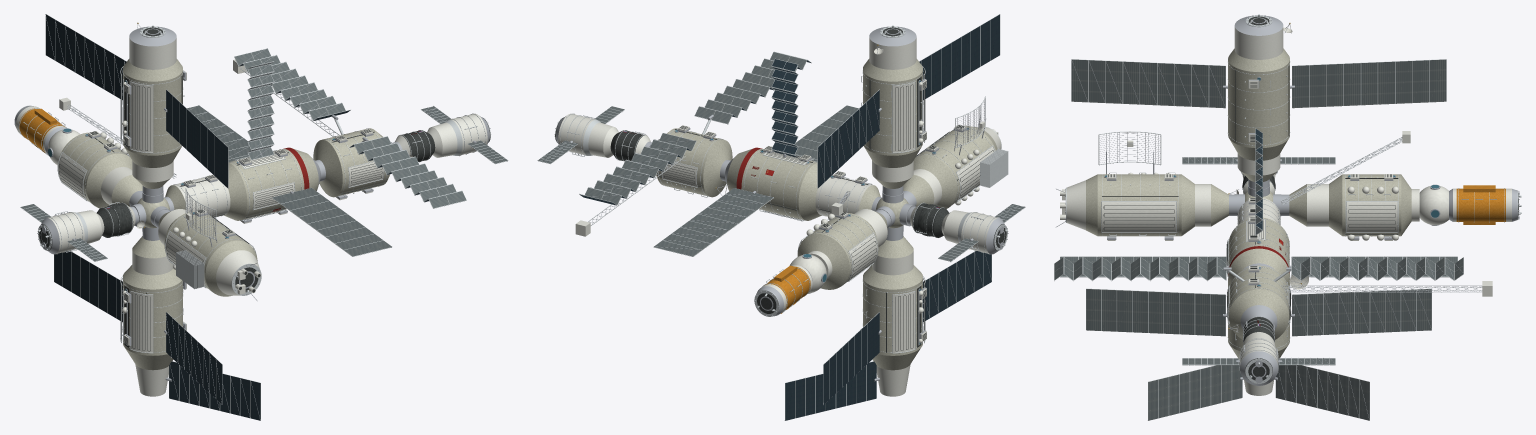
File: mir-reference.glb
3 renders of one model, left to right at view 1: azimuth 30°, elevation 25°; view 2: azimuth 150°, elevation 25°; view 3: azimuth 270°, elevation 25°, orthographic. The views are drawn at different scales.
Visible parts, largest first — view 1: Spektr / blanket, Core / blanket, Kvant-2 / shell, Kvant-2 / blanket, Core wing 1 / photo-back, Kvant-2 wing -1 / photo-cells, Kristall / blanket, Spektr / shell, Kvant-1 accordion 1 / photo-back, Spektr oblique 1.05 / photo-cells, Spektr main -1 / photo-cells, Priroda / blanket (+33 smaller); view 2: Core / blanket, Spektr / blanket, Priroda / blanket, Kvant-2 / blanket, Kvant-2 / shell, Core wing -1 / photo-back, Kvant-2 wing 1 / photo-cells, Spektr / shell, Kvant-1 accordion -1 / photo-back, Spektr oblique -1.05 / photo-cells, Kristall / blanket, Spektr main 1 / photo-cells (+32 smaller); view 3: Kvant-2 wing -1 / photo-back, Kvant-2 wing 1 / photo-back, Kvant-2 / blanket, Spektr main 1 / photo-back, Spektr main -1 / photo-back, Priroda / blanket, Kristall / shell, Priroda / shell, Spektr oblique 1.05 / photo-back, Spektr oblique -1.05 / photo-back, Kristall / blanket, Kvant-1 accordion 1 / photo-back (+31 smaller).
Boxes of the visible parts, <box> form: Spektr / blanket: <box>123,236,182,370</box>; Core / blanket: <box>165,148,318,220</box>; Kvant-2 / shell: <box>121,38,186,182</box>; Kvant-2 / blanket: <box>123,59,182,188</box>; Core wing 1 / photo-back: <box>272,188,391,256</box>; Kvant-2 wing -1 / photo-cells: <box>46,14,126,99</box>; Kristall / blanket: <box>58,132,142,208</box>; Spektr / shell: <box>121,251,186,396</box>; Kvant-1 accordion 1 / photo-back: <box>354,136,466,208</box>; Spektr oblique 1.05 / photo-cells: <box>169,361,260,420</box>; Spektr main -1 / photo-cells: <box>54,251,122,321</box>; Priroda / blanket: <box>158,210,257,296</box>; Core / blanket: <box>727,148,880,220</box>; Spektr / blanket: <box>863,236,922,370</box>; Priroda / blanket: <box>903,125,997,208</box>; Kvant-2 / blanket: <box>863,59,922,188</box>; Kvant-2 / shell: <box>869,37,926,182</box>; Core wing -1 / photo-back: <box>654,188,773,256</box>; Kvant-2 wing 1 / photo-cells: <box>919,14,999,99</box>; Spektr / shell: <box>872,251,926,396</box>; Kvant-1 accordion -1 / photo-back: <box>585,133,695,204</box>; Spektr oblique -1.05 / photo-cells: <box>785,361,876,420</box>; Kristall / blanket: <box>797,211,887,289</box>; Spektr main 1 / photo-cells: <box>923,251,991,321</box>; Kvant-2 wing -1 / photo-back: <box>1292,59,1446,107</box>; Kvant-2 wing 1 / photo-back: <box>1071,59,1225,107</box>; Kvant-2 / blanket: <box>1228,48,1289,181</box>; Spektr main 1 / photo-back: <box>1086,289,1225,336</box>; Spektr main -1 / photo-back: <box>1292,289,1431,336</box>; Priroda / blanket: <box>1086,174,1228,236</box>; Kristall / shell: <box>1307,174,1448,240</box>; Priroda / shell: <box>1060,172,1210,240</box>; Spektr oblique 1.05 / photo-back: <box>1148,360,1242,420</box>; Spektr oblique -1.05 / photo-back: <box>1276,363,1369,420</box>; Kristall / blanket: <box>1289,174,1411,236</box>; Kvant-1 accordion 1 / photo-back: <box>1054,257,1226,280</box>.
Bounding box in the file's own units: 35.86 × 28.14 × 31.73.
18 materials, 16 textured.
